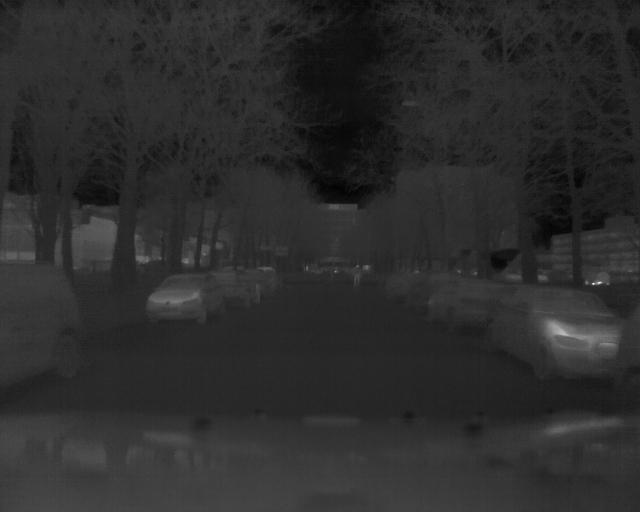car: (484, 284, 634, 379), (1, 262, 85, 384), (147, 273, 226, 327)
person: (353, 261, 362, 289)
